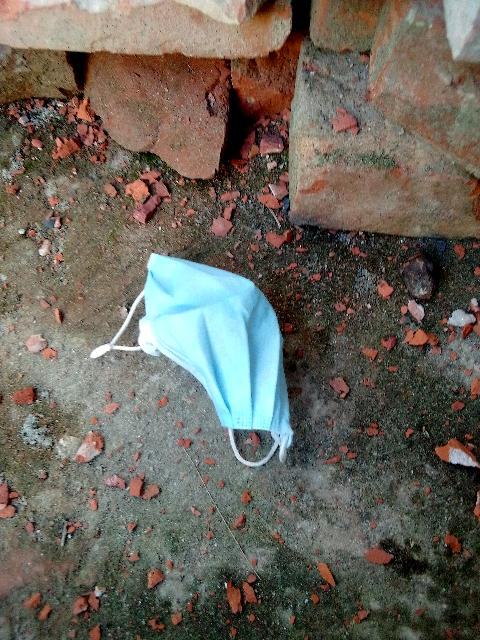mask: (119, 246, 310, 454)
